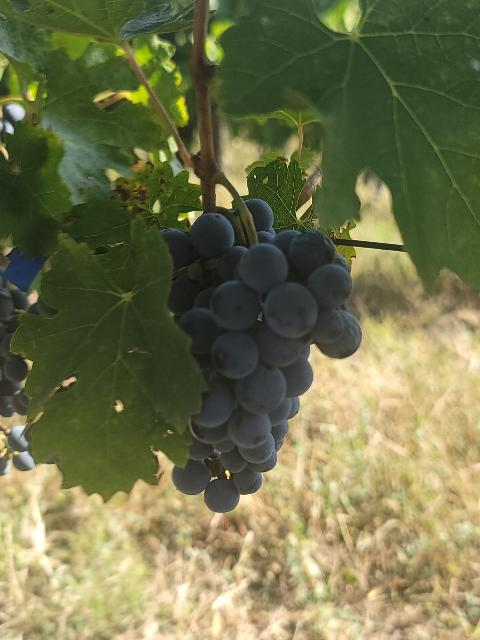grapes: (161, 199, 361, 511)
